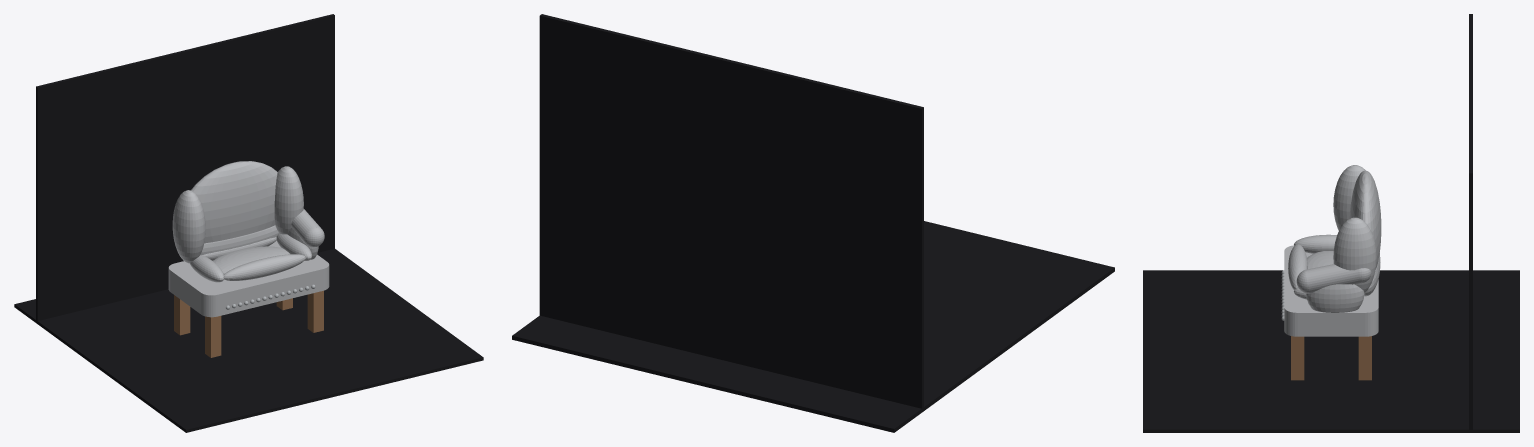
3 renders of one model, left to right at view 1: azimuth 30°, elevation 25°; view 2: azimuth 150°, elevation 25°; view 3: azimuth 270°, elevation 25°, orthographic. The views are drawn at different scales.
Visible parts, largest first — view 1: geometry_0_cube.001, geometry_0_cube, geometry_0_sphere.002, geometry_0_sphere.001, geometry_0_cube.002, geometry_0_cube.003, geometry_0_cylinder.005, geometry_0_cube.004, geometry_0_cube.005, geometry_0_cube.006, geometry_0_cylinder; view 2: geometry_0_cube.001, geometry_0_cube; view 3: geometry_0_cube, geometry_0_sphere.002, geometry_0_cylinder.005, geometry_0_cube.003, geometry_0_cube.001, geometry_0_sphere.001, geometry_0_cube.005, geometry_0_cube.007, geometry_0_cube.002, geometry_0_cylinder.002, geometry_0_cylinder.003.
Boxes of the visible parts, x1,y1,x2,y2 form: geometry_0_cube.001: (36, 14, 334, 320); geometry_0_cube: (14, 248, 483, 432); geometry_0_sphere.002: (172, 161, 303, 263); geometry_0_sphere.001: (190, 233, 311, 282); geometry_0_cube.002: (175, 243, 323, 316); geometry_0_cube.003: (170, 244, 325, 314); geometry_0_cylinder.005: (287, 209, 324, 259); geometry_0_cube.004: (205, 316, 221, 357); geometry_0_cube.005: (307, 290, 323, 332); geometry_0_cube.006: (174, 295, 190, 335); geometry_0_cylinder: (199, 286, 223, 317); geometry_0_cube.001: (539, 14, 923, 408); geometry_0_cube: (512, 221, 1114, 432); geometry_0_cube: (1143, 270, 1519, 432); geometry_0_sphere.002: (1333, 165, 1381, 296); geometry_0_cylinder.005: (1296, 264, 1371, 312); geometry_0_cube.003: (1297, 252, 1365, 336); geometry_0_cube.001: (1469, 14, 1472, 429); geometry_0_sphere.001: (1288, 234, 1336, 299); geometry_0_cube.005: (1291, 336, 1304, 380); geometry_0_cube.007: (1358, 336, 1371, 380); geometry_0_cube.002: (1284, 251, 1378, 307); geometry_0_cylinder.002: (1284, 301, 1310, 336); geometry_0_cylinder.003: (1361, 301, 1378, 336).
Size of the model in its own units: 4 by 3.04 by 4.
